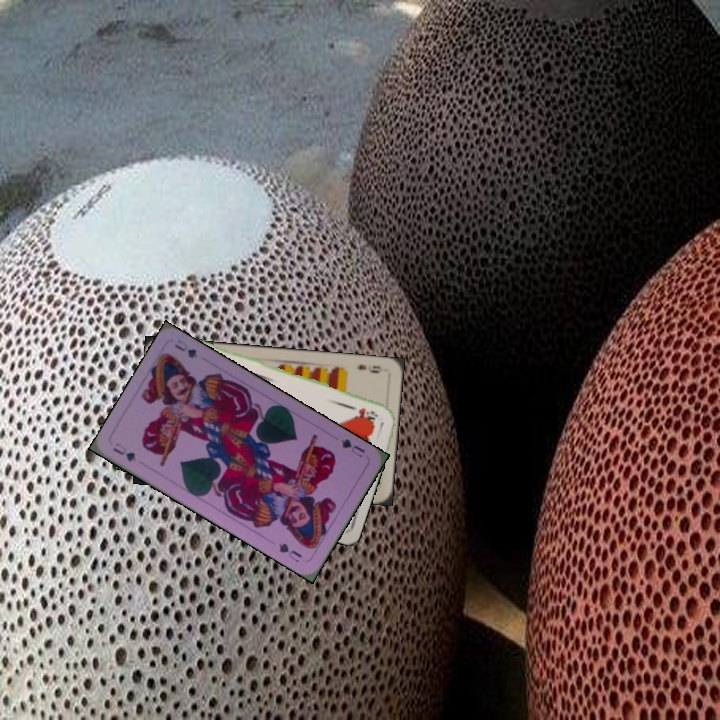E9: (353, 361, 383, 376)
GU: (337, 435, 367, 460), (109, 439, 139, 464)
HO: (343, 401, 381, 422)
